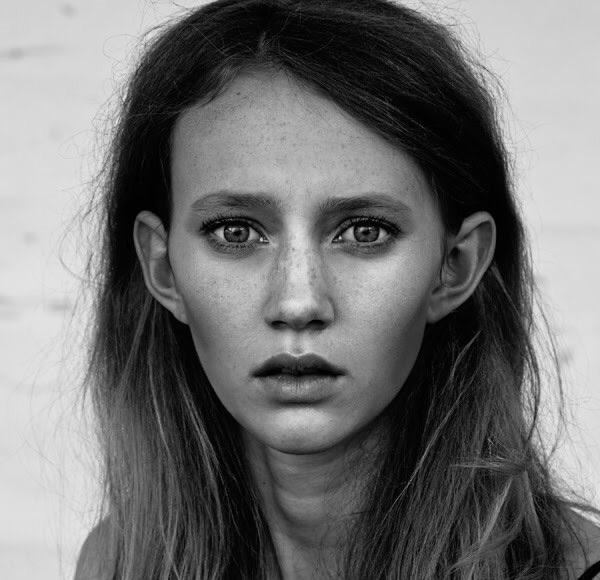without_mask: (189, 162, 415, 399)
